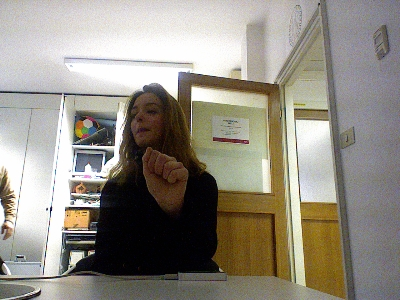石头: (140, 145, 190, 214)
